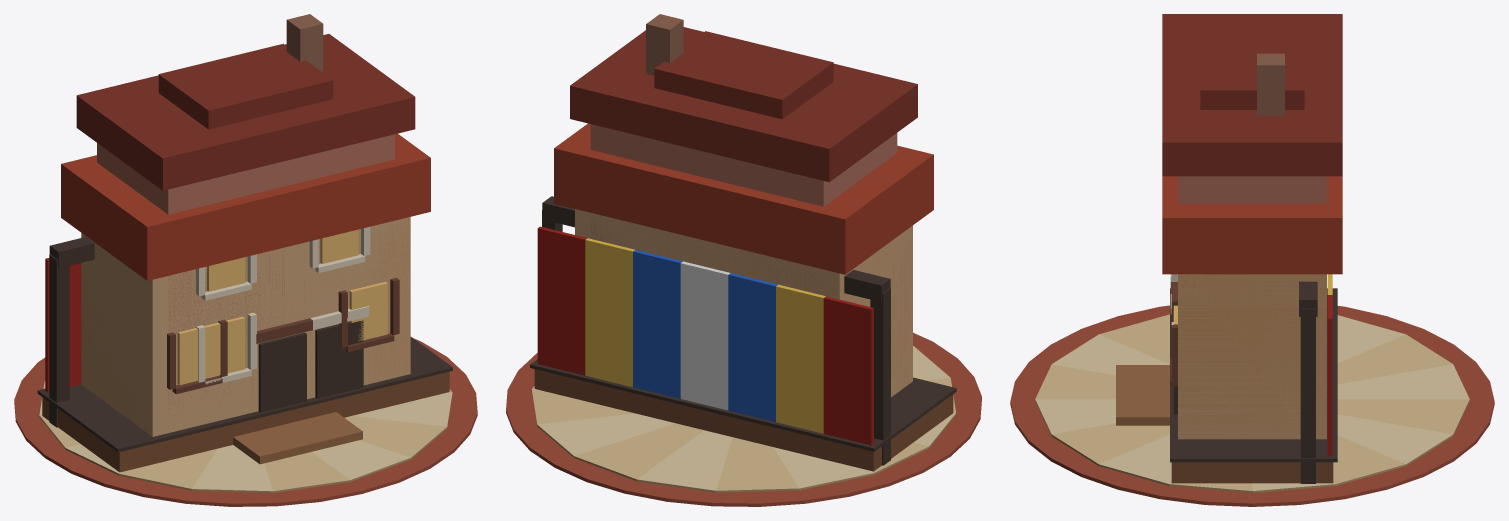
Rendered from courtyard.glb.
3 views of the same model, side by side, from view 1: azimuth 30°, elevation 25°; view 2: azimuth 150°, elevation 25°; view 3: azimuth 270°, elevation 25° (orthographic). The views are drawn at different scales.
Visible parts, largest first — view 1: House_A, House_B, Floor_Dance, Stage, House_C; view 2: Stage, House_B, Floor_Dance, House_A, House_C; view 3: Floor_Dance, House_B, House_A, House_C, Stage.
Part boxes in pixels (x1,y1,x2,y2): House_A: [61, 133, 430, 436]; House_B: [76, 14, 415, 416]; Floor_Dance: [14, 338, 477, 506]; Stage: [37, 237, 452, 472]; House_C: [61, 179, 430, 436]; Stage: [530, 196, 956, 471]; House_B: [570, 14, 917, 290]; Floor_Dance: [506, 332, 981, 506]; House_A: [554, 123, 933, 396]; House_C: [554, 170, 933, 396]; Floor_Dance: [1010, 305, 1494, 506]; House_B: [1162, 14, 1342, 414]; House_A: [1162, 176, 1342, 439]; House_C: [1162, 240, 1342, 438]; Stage: [1116, 274, 1337, 483].
Size of what is drawn, in the model's own units: 7.8 by 6.76 by 7.8.
